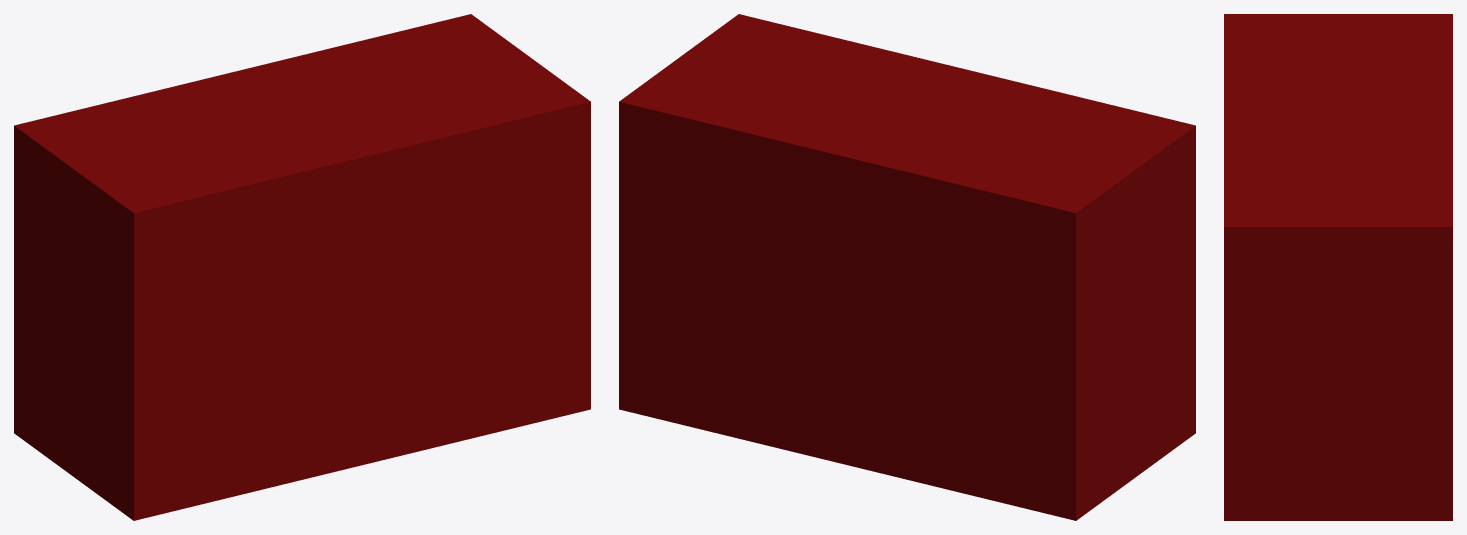
Rendered from toyChest.fbx.
3 views of the same model, side by side, from view 1: azimuth 30°, elevation 25°; view 2: azimuth 150°, elevation 25°; view 3: azimuth 270°, elevation 25° (orthographic). The views are drawn at different scales.
Visible parts, largest first — view 1: toyChest_Col; view 2: toyChest_Col; view 3: toyChest_Col.
Part boxes in pixels (box(x1,y1,x2,y2)): toyChest_Col: box(14, 14, 590, 520); toyChest_Col: box(619, 14, 1195, 520); toyChest_Col: box(1224, 14, 1452, 520).
Bounding box in the file's own units: 92.5 × 59.5 × 42.
